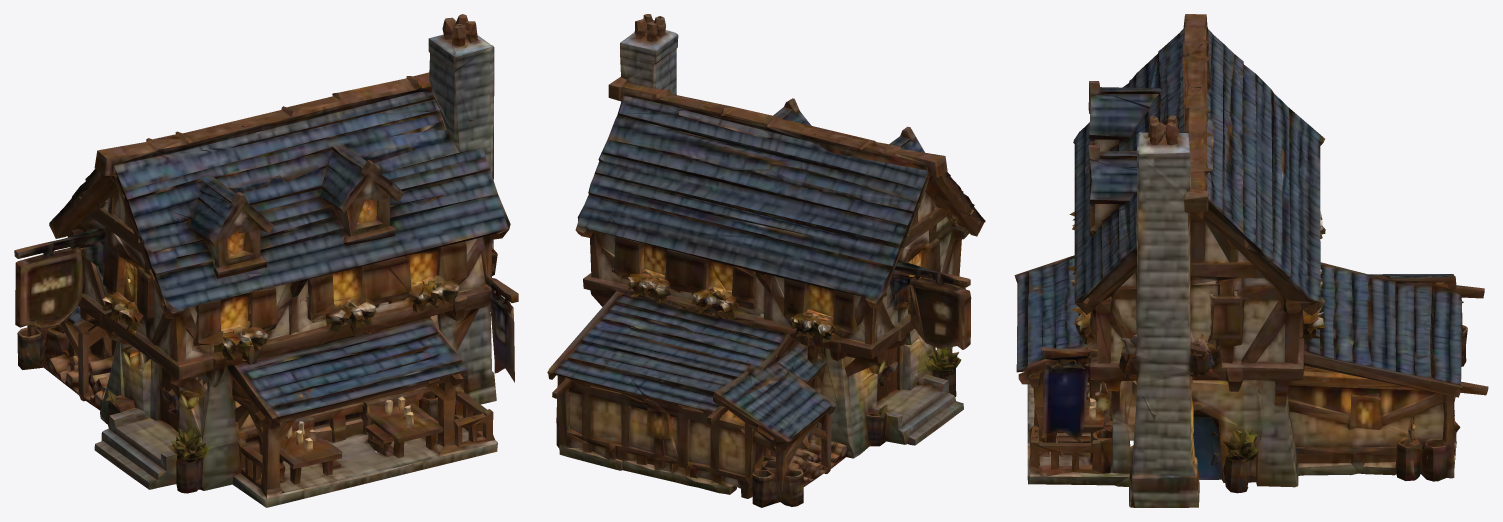
The model's file is tavernBuilding_2.glb.
3 views of the same model, side by side, from view 1: azimuth 30°, elevation 25°; view 2: azimuth 150°, elevation 25°; view 3: azimuth 270°, elevation 25° (orthographic). The views are drawn at different scales.
Visible parts, largest first — view 1: geometry_0; view 2: geometry_0; view 3: geometry_0.
Part boxes in pixels (left/top/right/bottom): geometry_0: left=14, top=14, right=518, bottom=507; geometry_0: left=547, top=14, right=985, bottom=507; geometry_0: left=1014, top=14, right=1488, bottom=507.
Bounding box in the file's own units: 0.9977 × 0.8407 × 0.9499.
1 material, 1 textured.
